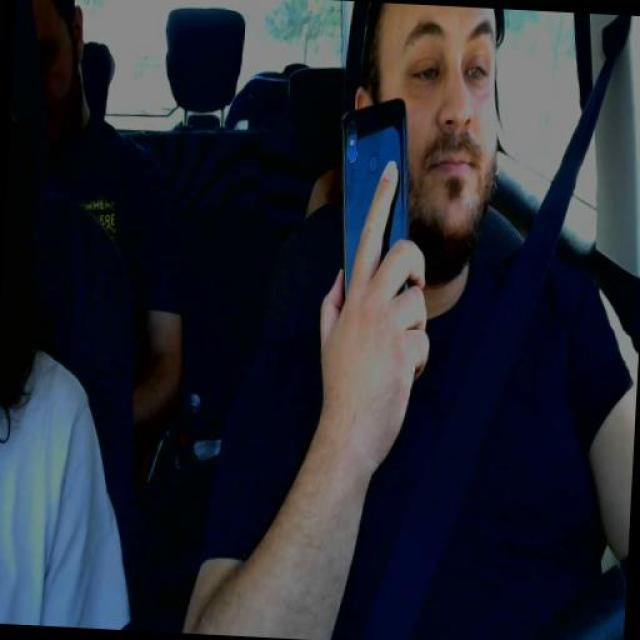phone: (338, 96, 412, 333)
